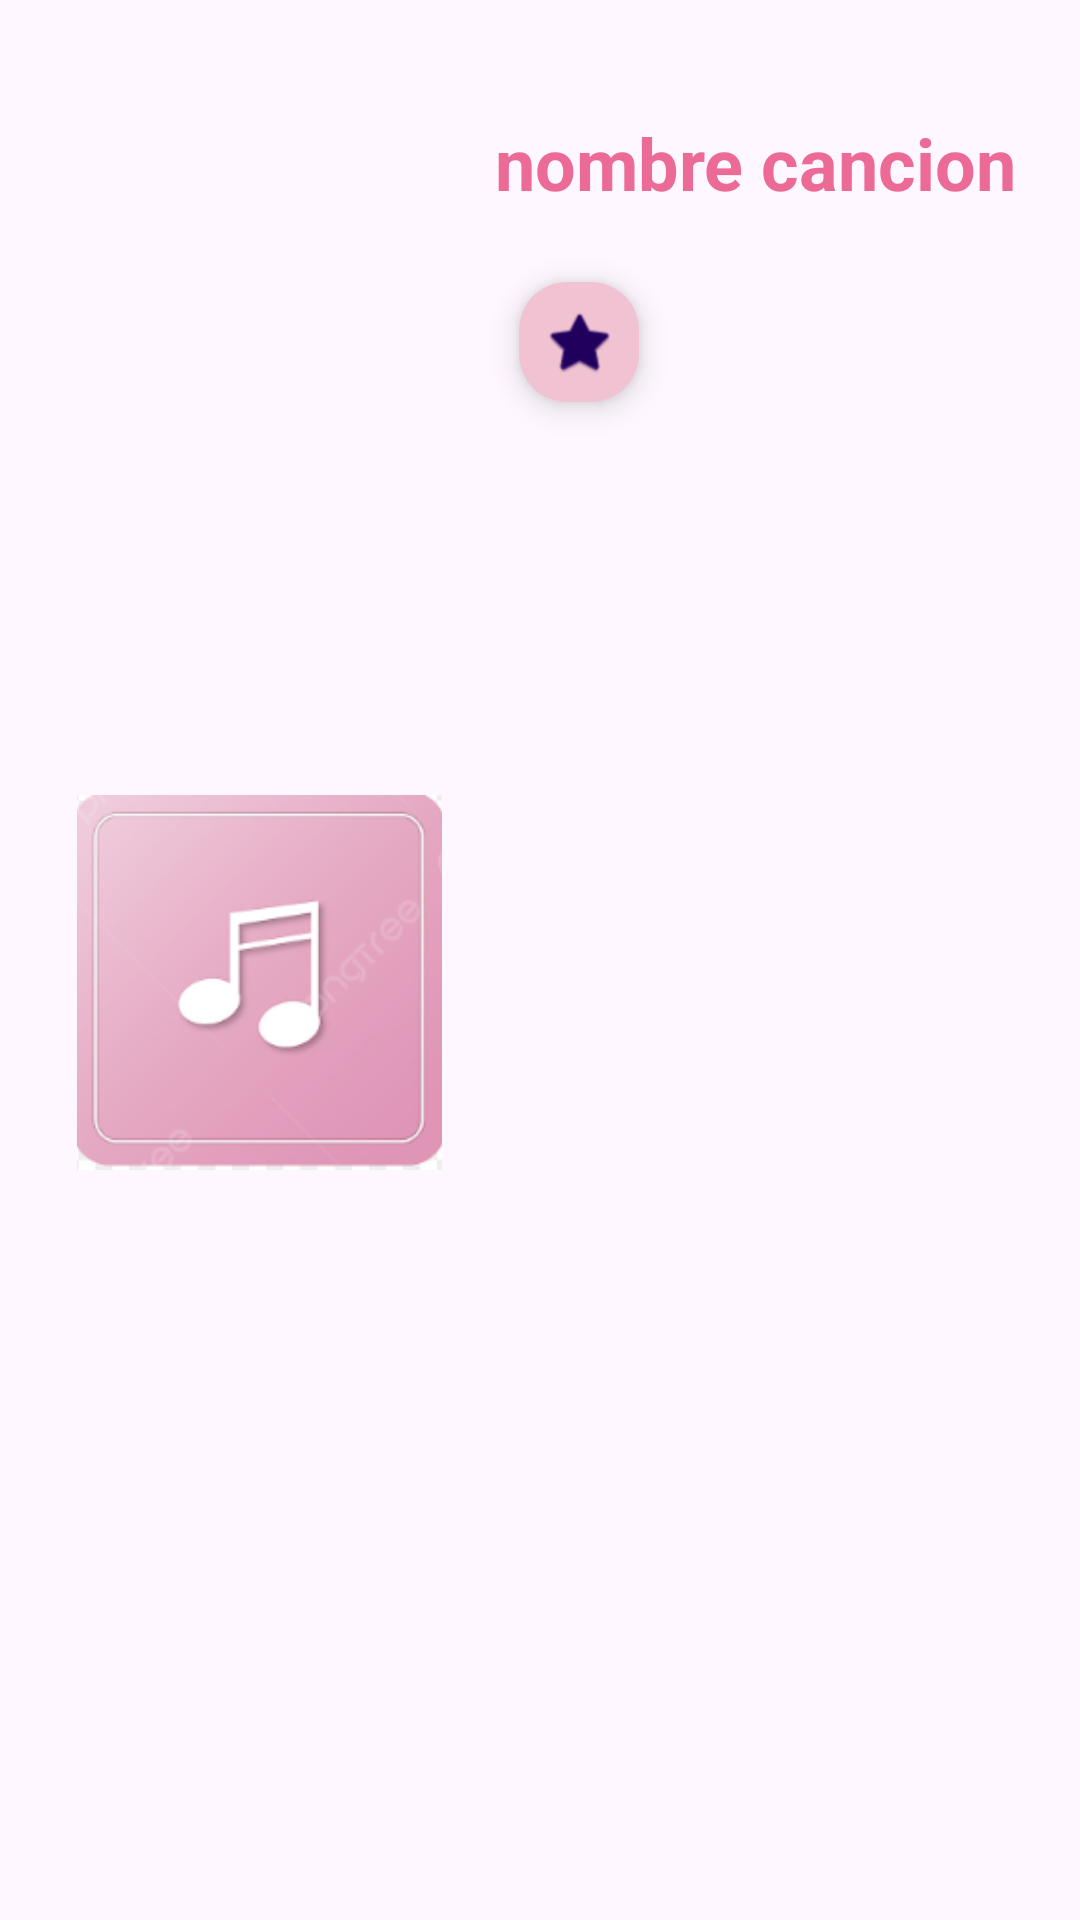

Named icons in this screenshot (1080 x 1920) and their bounding boxes, (x1, y1, x2, y2):
star: (519, 282, 639, 404)
